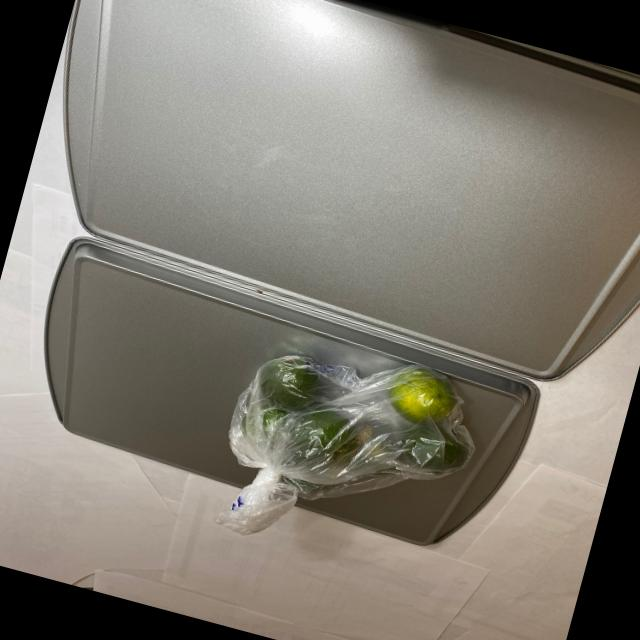lemon: (214, 326, 488, 531)
